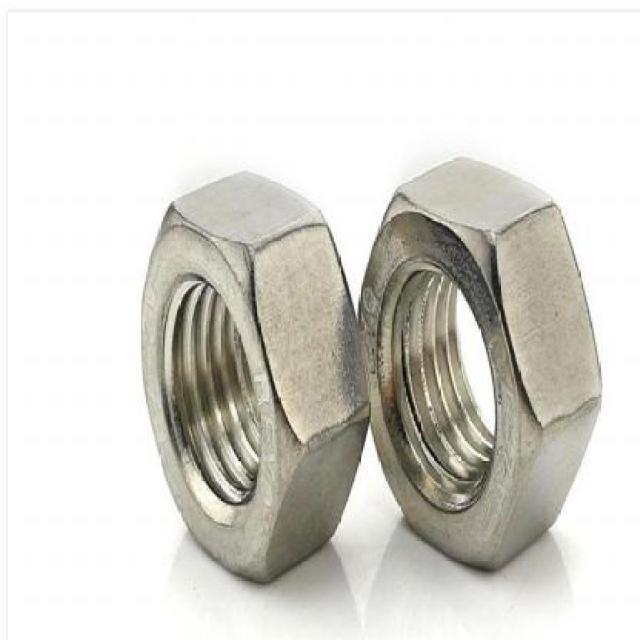Nut: (352, 157, 606, 577), (136, 169, 371, 588)
